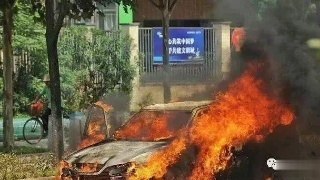fire: (118, 65, 288, 179)
